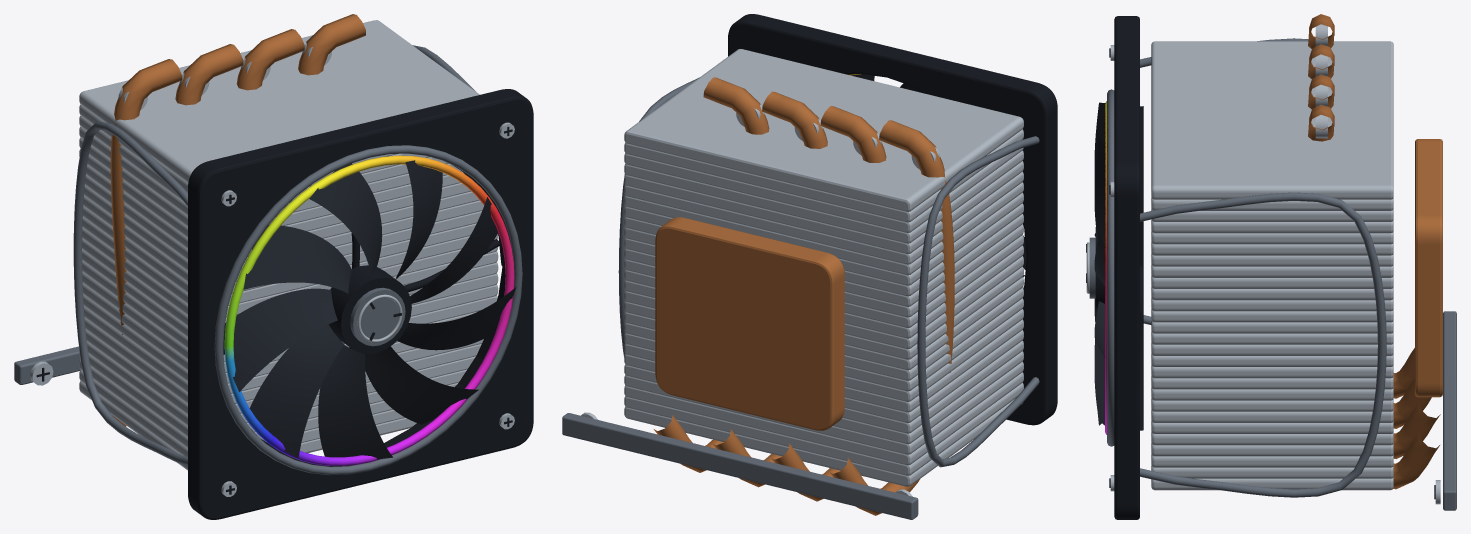
Rendered from nexrig-cooler.glb.
3 renders of one model, left to right at view 1: azimuth 30°, elevation 25°; view 2: azimuth 150°, elevation 25°; view 3: azimuth 270°, elevation 25°, orthographic. The views are drawn at different scales.
Parts seen in each view (by area): view 1: Original generic tower cooler, Fan rotor; view 2: Original generic tower cooler; view 3: Original generic tower cooler, Fan rotor.
Boxes of the visible parts, box(x1,y1,x2,y2) form: Original generic tower cooler: box(14, 14, 533, 519); Fan rotor: box(223, 160, 516, 459); Original generic tower cooler: box(562, 14, 1057, 519); Original generic tower cooler: box(1105, 14, 1456, 519); Fan rotor: box(1086, 102, 1105, 425).
Size of the model in its own units: 0.87 by 0.8583 by 0.7525.
